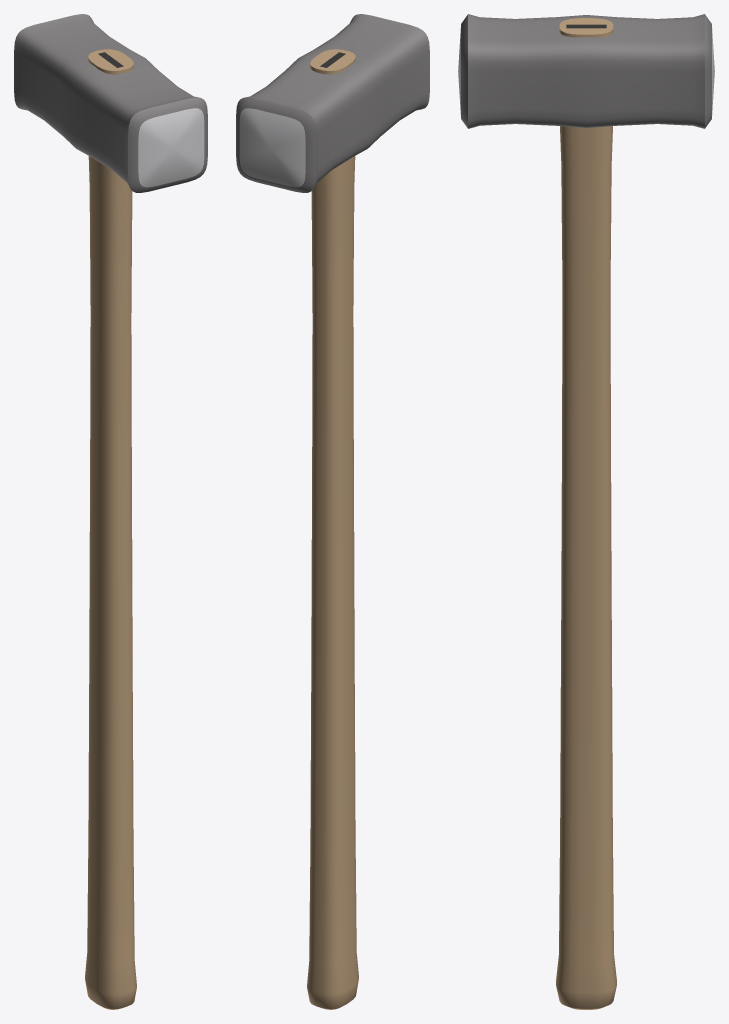
Rendered from hammer.glb.
The picture shows the model from 3 angles, left to right: view 1: azimuth 30°, elevation 25°; view 2: azimuth 150°, elevation 25°; view 3: azimuth 270°, elevation 25°; orthographic projection. The views are drawn at different scales.
Parts seen in each view (by area): view 1: Hammer; view 2: Hammer; view 3: Hammer.
Boxes of the visible parts, <box> form: Hammer: <box>14,14,207,1009</box>; Hammer: <box>236,14,429,1009</box>; Hammer: <box>458,14,714,1009</box>.
Bounding box in the file's own units: 0.0808 × 0.912 × 0.217.
